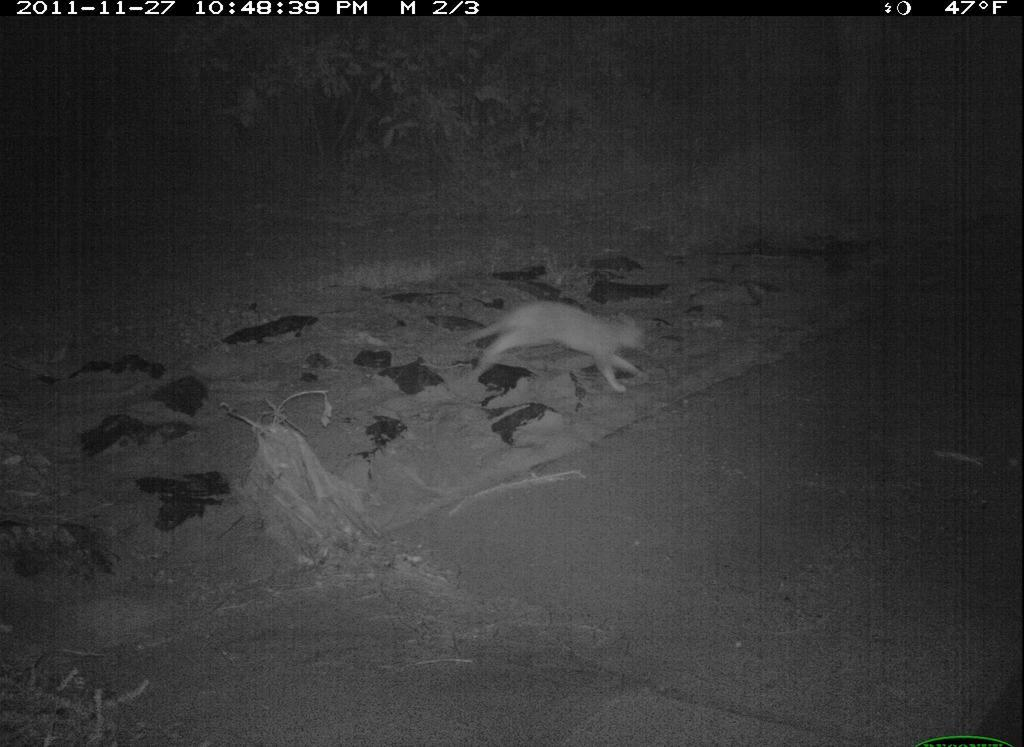cat: (461, 294, 646, 397)
